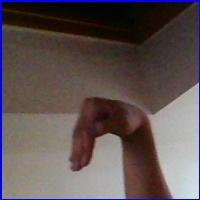A: (62, 92, 149, 180)
